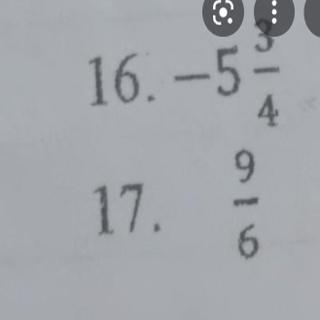.: (145, 219, 168, 238), (143, 89, 161, 105)
1: (86, 52, 108, 111), (96, 180, 112, 236)
3: (251, 20, 275, 55)
4: (255, 92, 282, 130)
5: (212, 41, 242, 102)
6: (113, 51, 141, 107), (234, 222, 264, 259)
7: (117, 177, 144, 235)
9: (233, 149, 258, 185)
